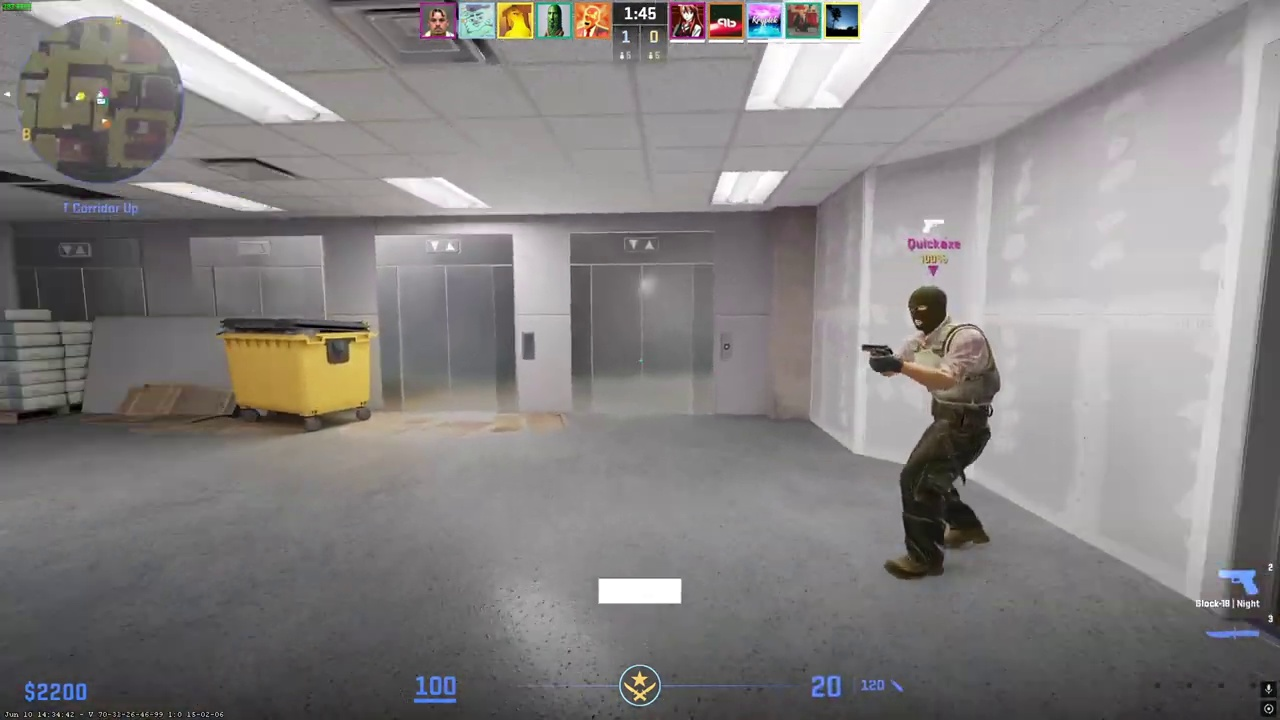Terrorist: (875, 285, 999, 580)
